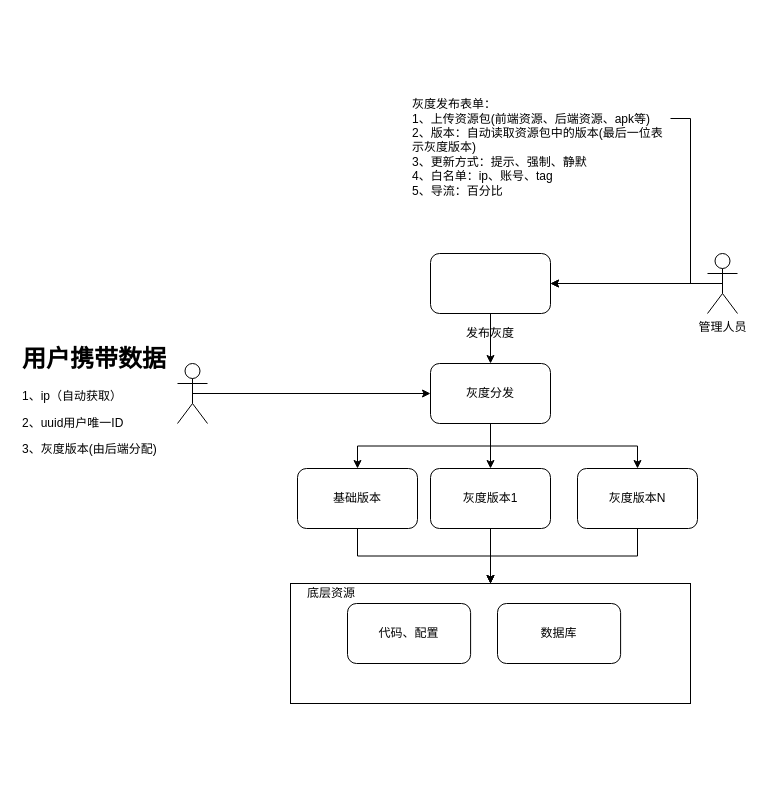
Some shapes in this 763 by 810 pixel diagram are drawn without their labels. The box of each missing label's shape, as (x1, y1, x2, y2) in pixels:
灰度管理端: (430, 252, 550, 314)
用户: (176, 362, 208, 424)
